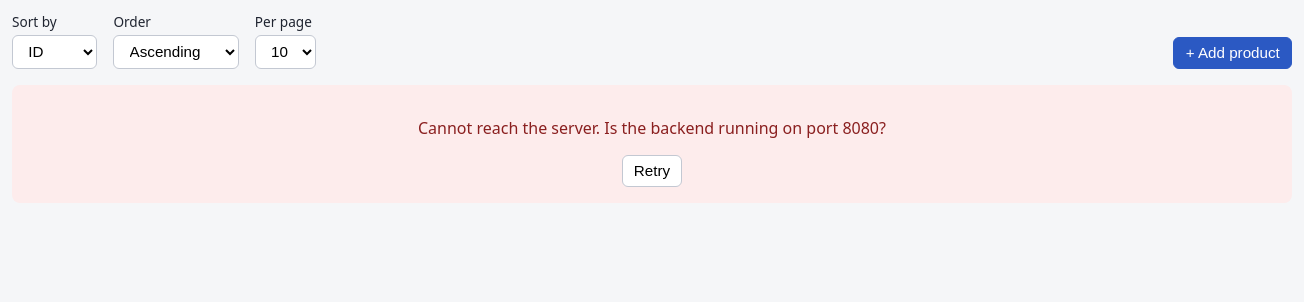
Scenario: ProductList › shows an error with Retry when the server is down, and recovers
This screenshot has width=1304, height=302.
Expected: the text "Cannot reach the server" is shown, [418,117,886,139]
Click the button "Retry": x=652, y=171 [622,155,682,187]
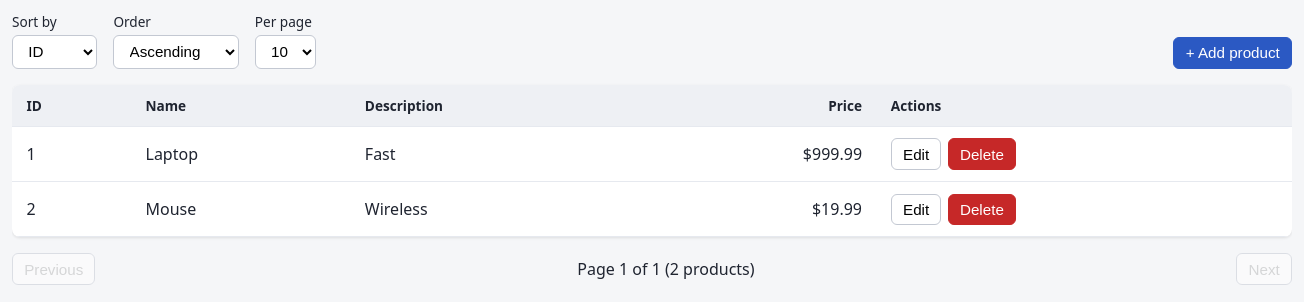
Expected: the text "Laptop" is shown, [131,127,350,182]
